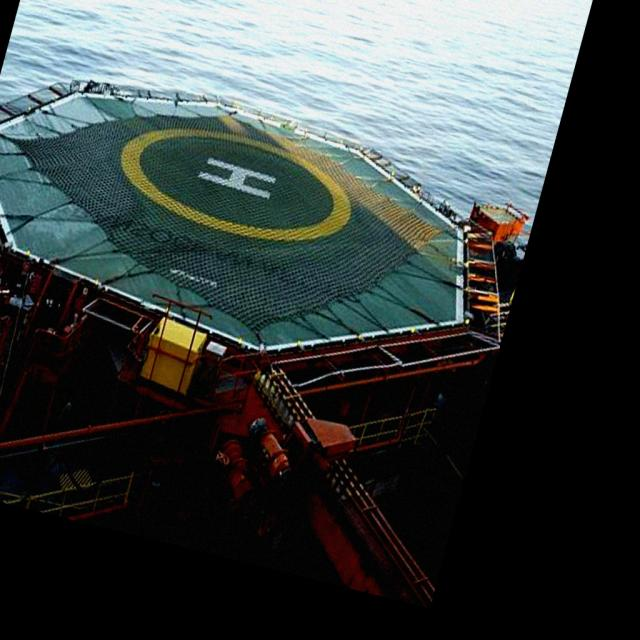helipad: (116, 120, 354, 244)
